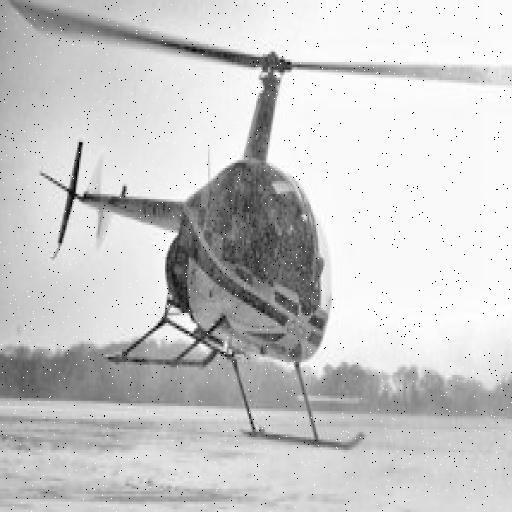helicopter: (17, 4, 479, 451)
